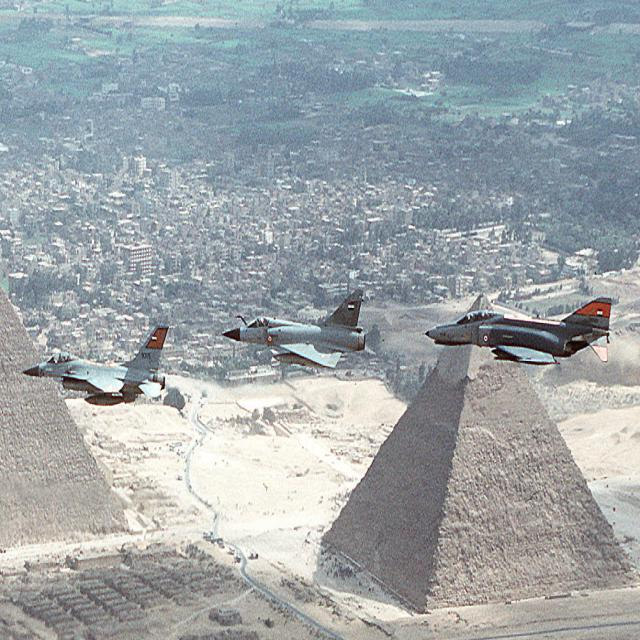MIL_Plane: (421, 296, 614, 366), (49, 324, 197, 406), (221, 289, 366, 369)
